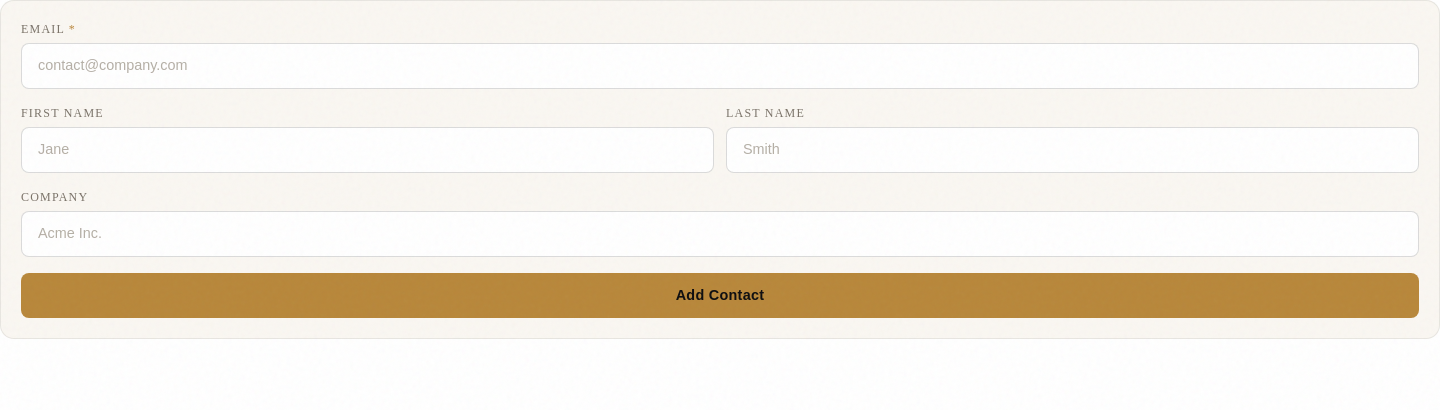
Test case: AddContactForm › shows error when addContact returns an error
// Use a syntactically valid email so jsdom's constraint validation doesn't block submission
Type "not-a-real@domain.x" into the field labelled "Email *" at {"x": 720, "y": 66}, box [21,43,1419,89]
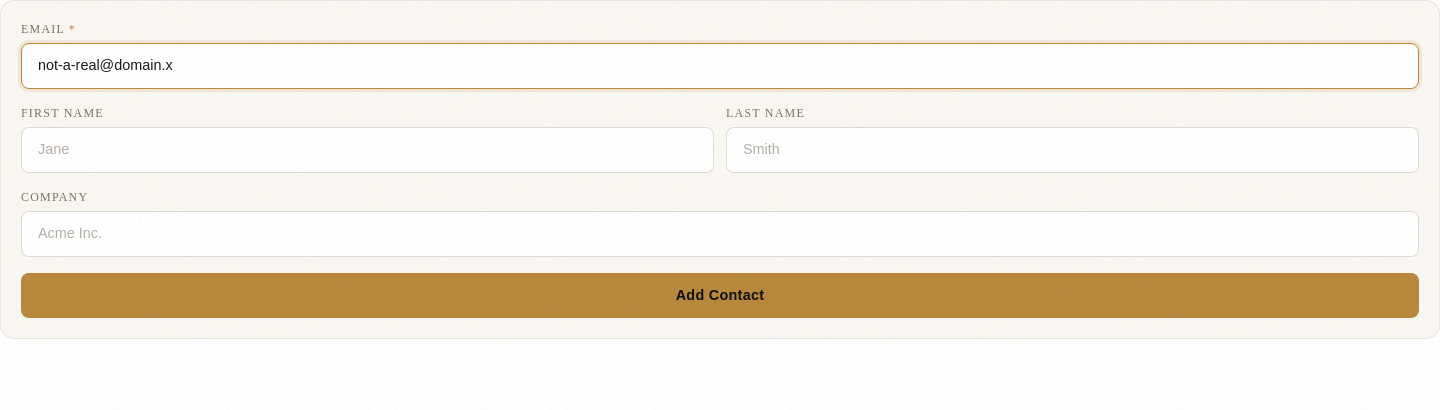
Click the button "Add Contact" at {"x": 720, "y": 296}, box [21,273,1419,318]
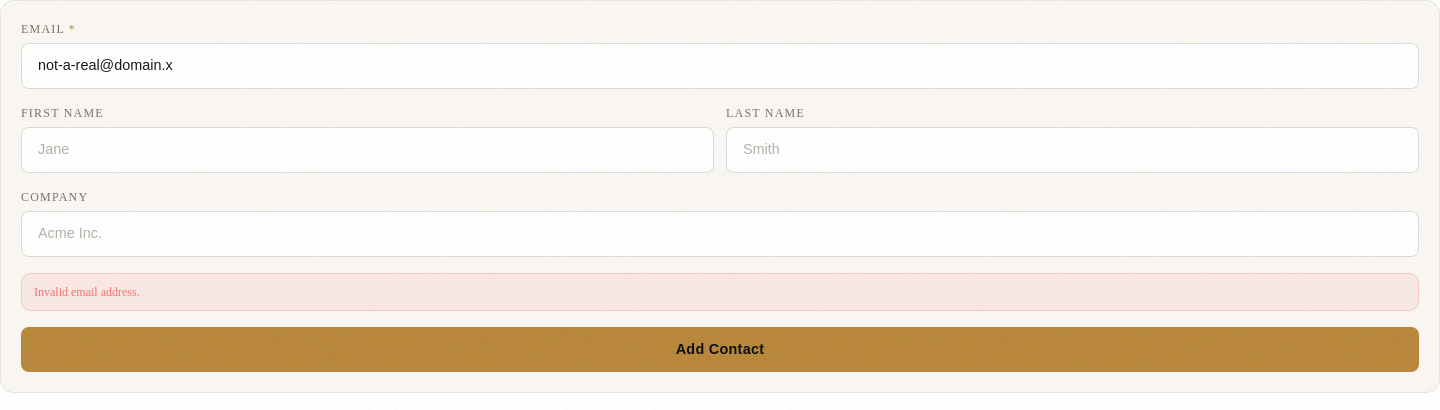
Expected: the text "Invalid email address." is shown, [21,273,1419,311]
